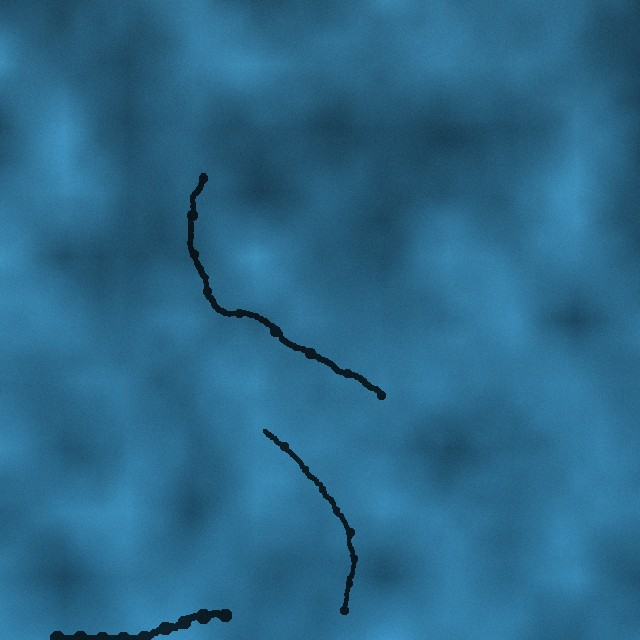crack: (184, 169, 386, 400), (260, 427, 359, 614), (50, 606, 232, 639)
